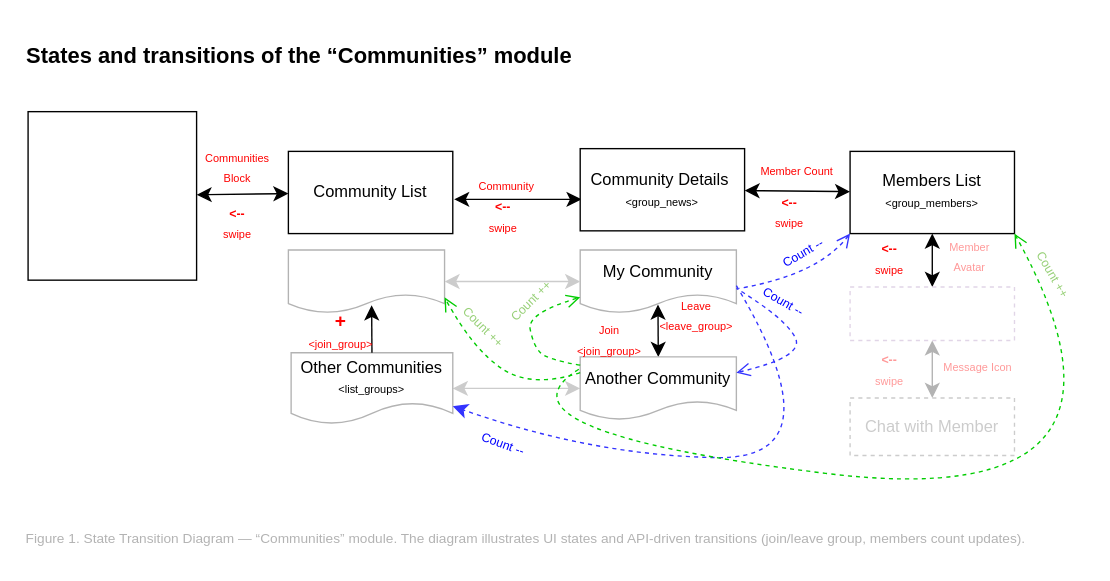
This 1110x581 diagram has some shape labels left out. The shapes that lost their labels are listed below. From the top down, each one's centre as x and y in pixels, then its label:
At pixel 112 195: "Main Screen — Communities Flag = ON <list_groups> - 200 User is authorized".
At pixel 366 281: "My Communities <my_groups>".
At pixel 931 313: "Member Profile".
